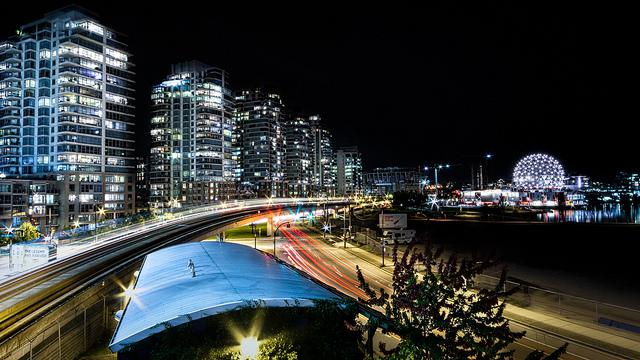Train: (111, 241, 354, 355)
